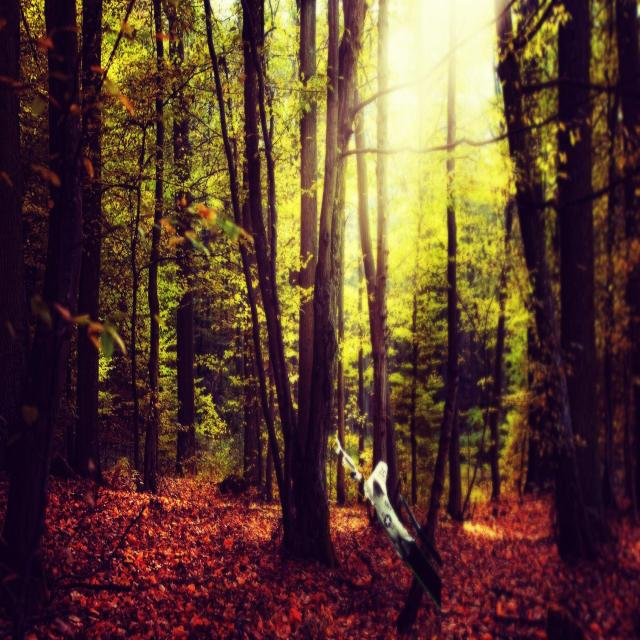airplane: (333, 434, 442, 612)
